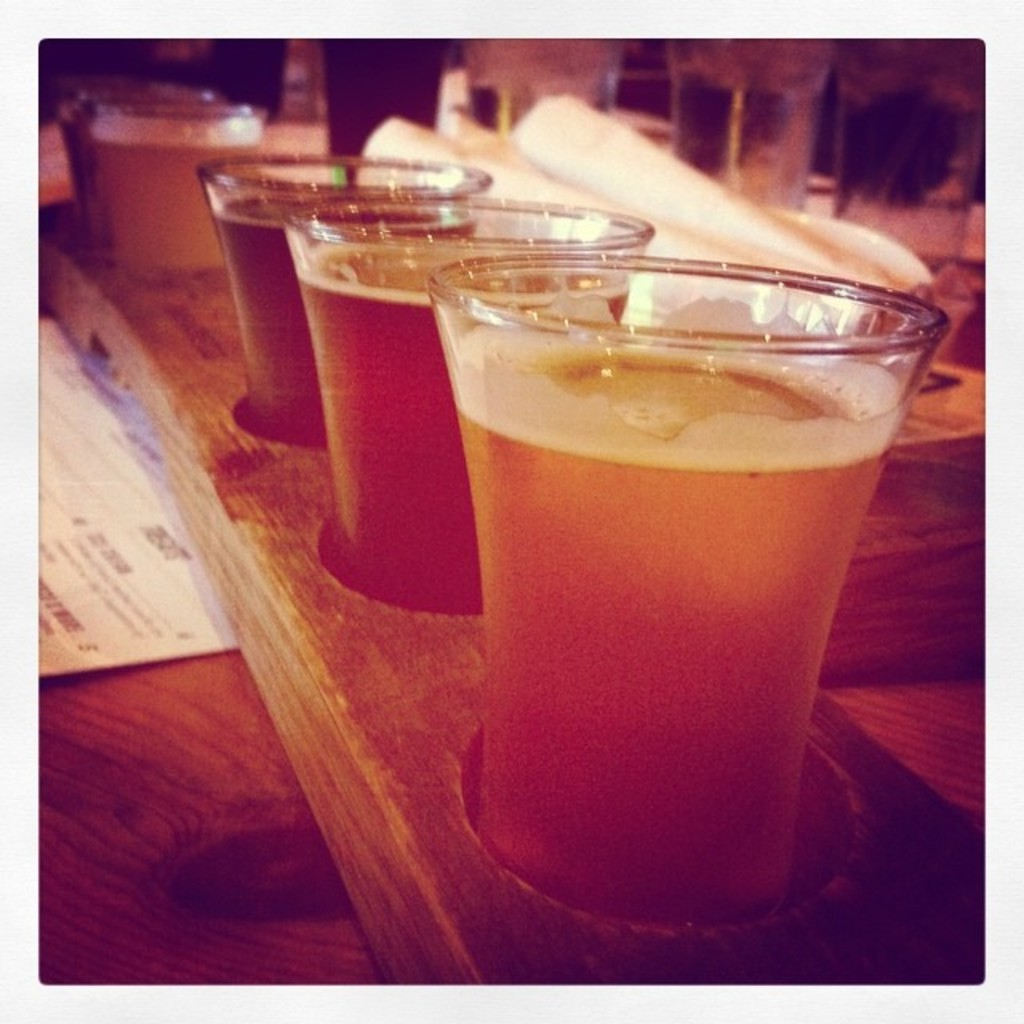Beer: (454, 339, 897, 931), (302, 246, 630, 604)
